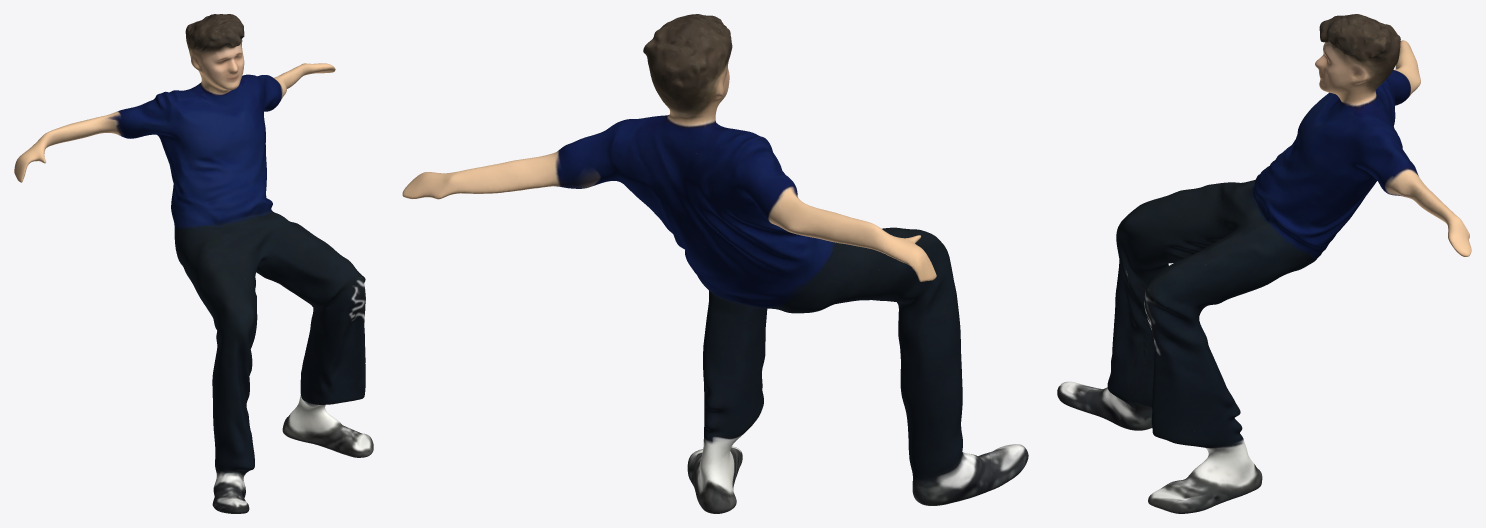
Rendered from efe.glb.
3 renders of one model, left to right at view 1: azimuth 30°, elevation 25°; view 2: azimuth 150°, elevation 25°; view 3: azimuth 270°, elevation 25°, orthographic. The views are drawn at different scales.
Bounding box in the file's own units: 1.75 × 1.9 × 1.55.
Materials: 1 (1 with a texture image).
